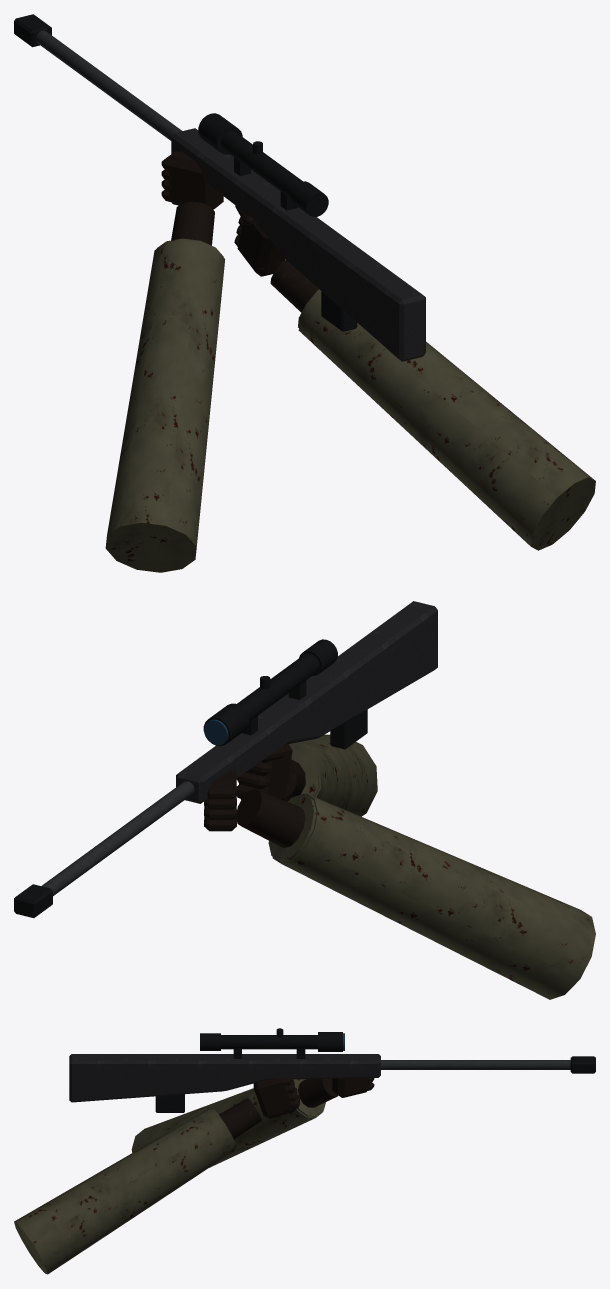
File: dsr50.gltf
The picture shows the model from 3 angles, top to bottom: view 1: azimuth 30°, elevation 25°; view 2: azimuth 150°, elevation 25°; view 3: azimuth 270°, elevation 25°; orthographic projection. The views are drawn at different scales.
Parts seen in each view (by area): view 1: Body, ArmL, Mag; view 2: ArmL, Body, Mag; view 3: Body, ArmL, Mag.
Boxes of the visible parts, x1=… form: Body: x1=14, y1=14, x2=595, y2=550; ArmL: x1=105, y1=150, x2=225, y2=572; Mag: x1=321, y1=291, x2=357, y2=331; ArmL: x1=204, y1=770, x2=595, y2=999; Body: x1=14, y1=601, x2=437, y2=917; Mag: x1=330, y1=709, x2=367, y2=749; Body: x1=14, y1=1028, x2=595, y2=1274; ArmL: x1=131, y1=1078, x2=374, y2=1167; Mag: x1=155, y1=1094, x2=184, y2=1112.
Size of the model in its own units: 0.7262 by 0.5708 by 1.38.
6 materials, 5 textured.
